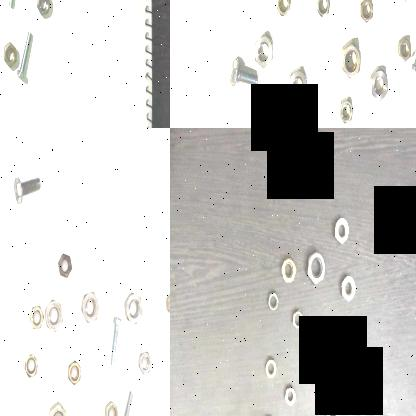Bolts: (224, 56, 260, 94), (11, 168, 44, 207), (14, 25, 32, 81), (106, 312, 122, 366), (116, 390, 134, 416), (410, 21, 416, 74)
NUTS: (252, 24, 275, 70), (339, 38, 362, 80), (305, 246, 327, 286), (286, 64, 306, 104), (42, 298, 63, 336), (78, 288, 100, 324), (122, 292, 145, 324), (278, 253, 297, 290), (336, 92, 356, 127), (370, 66, 388, 102), (338, 270, 356, 305), (394, 32, 414, 62), (331, 214, 350, 245), (347, 364, 365, 396), (132, 348, 152, 375), (324, 326, 342, 356), (22, 348, 38, 380), (56, 250, 74, 278), (27, 302, 42, 334), (44, 399, 71, 416), (65, 358, 81, 386), (356, 0, 375, 22), (2, 38, 15, 68), (262, 354, 276, 380), (313, 0, 331, 19), (302, 336, 314, 364), (324, 396, 340, 416), (284, 382, 296, 408), (275, 0, 291, 19), (102, 396, 117, 416), (33, 0, 49, 15), (163, 289, 170, 319)
